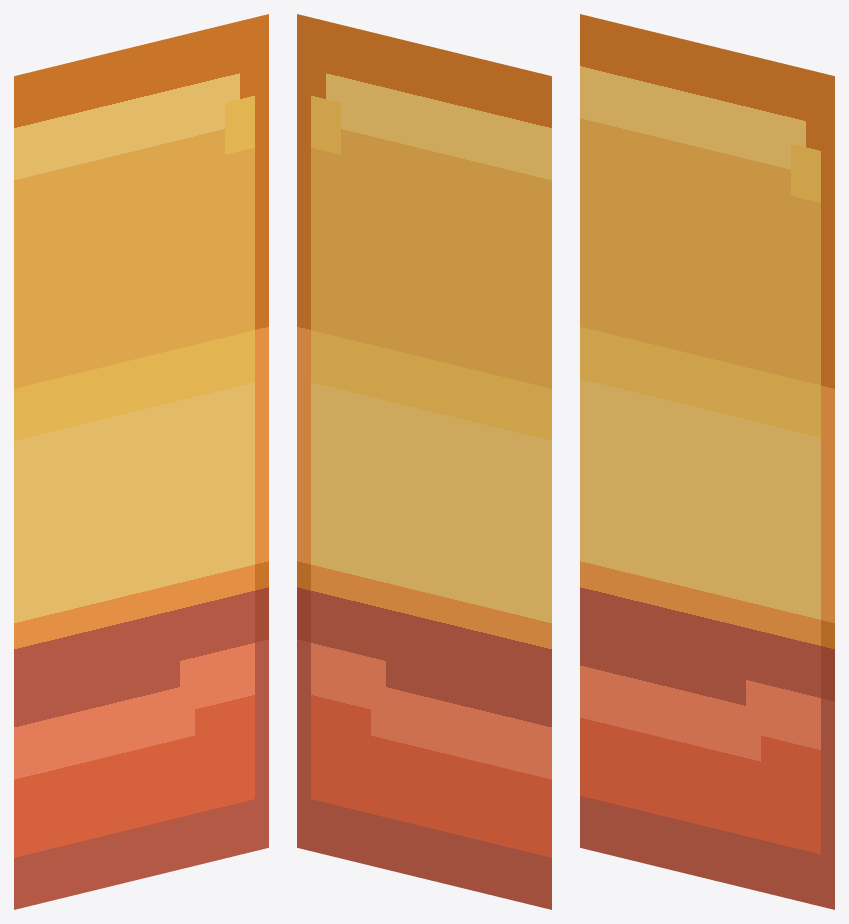
3 renders of one model, left to right at view 1: azimuth 30°, elevation 25°; view 2: azimuth 150°, elevation 25°; view 3: azimuth 330°, elevation 25°, orthographic.
Size of the model in its own units: 1 by 3.12 by 0.
Materials: 1 (1 with a texture image).
